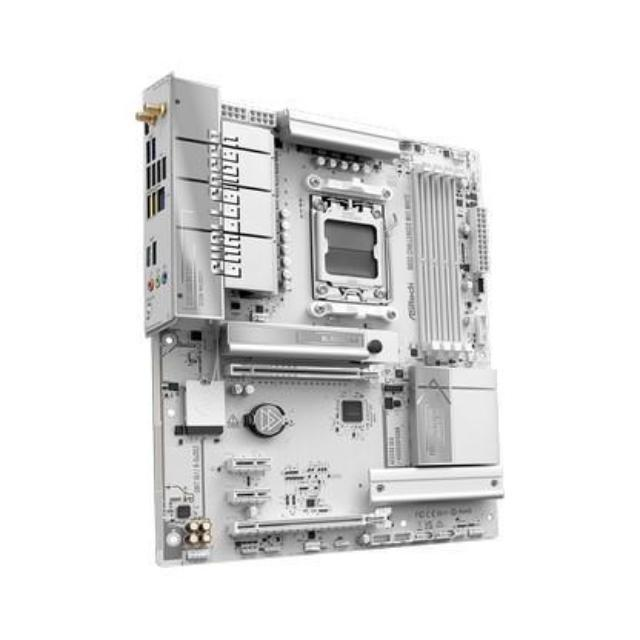Mainboard: (122, 66, 513, 569)
